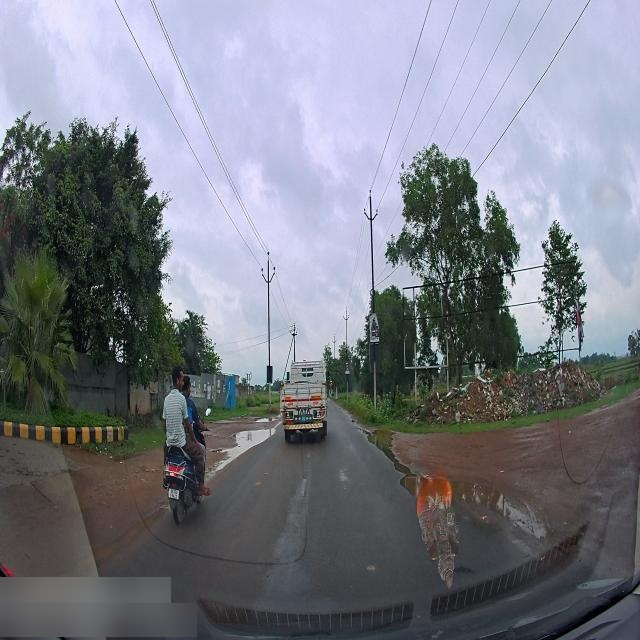pothole: (234, 428, 276, 450), (456, 482, 490, 504), (368, 428, 392, 448), (400, 476, 424, 494)
